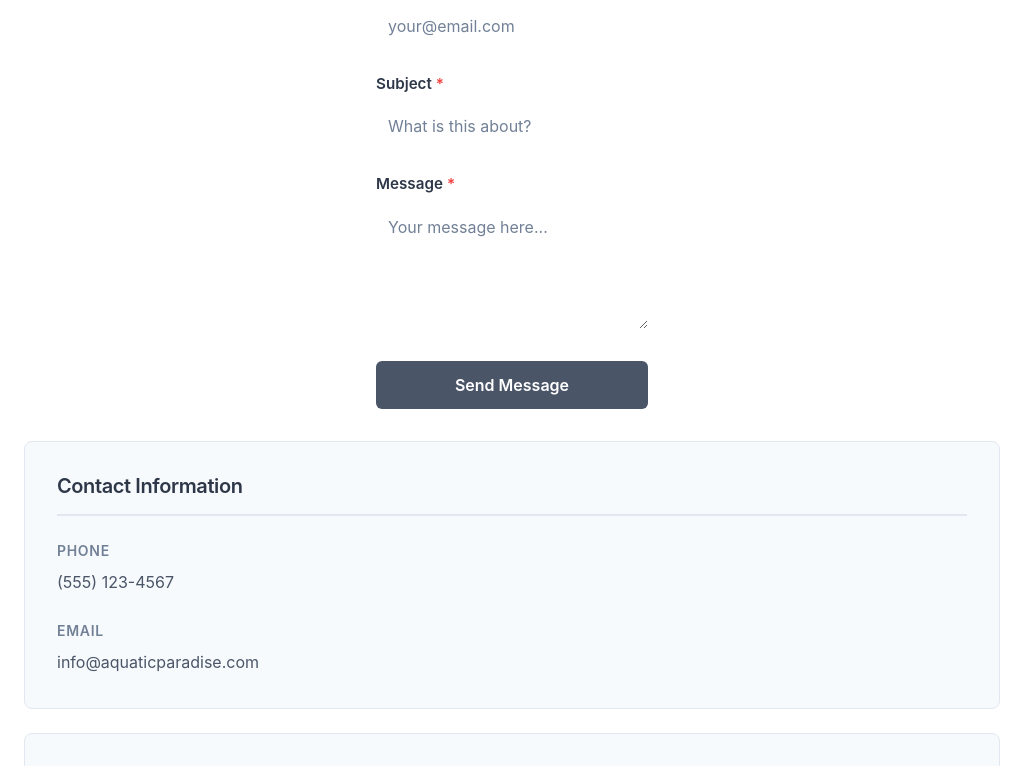
Test: Contact Page › Form Validation - Required Fields › should show all validation errors on submit with empty form
(page scrolled)
Click the button "Send Message": (512, 385) [376, 361, 648, 409]
(page scrolled)
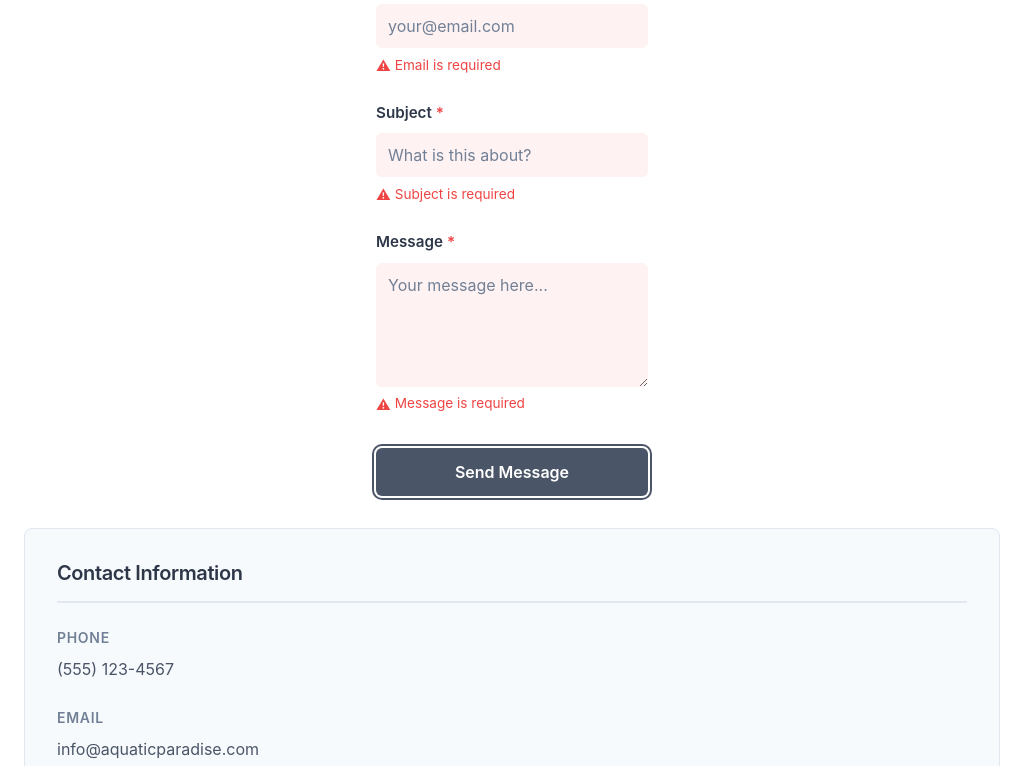
Expected: the text "Email is required" is shown, [395, 57, 501, 73]
Expected: the text "Subject is required" is shown, [395, 186, 515, 202]
Expected: the text "Message is required" is shown, [395, 395, 525, 411]
